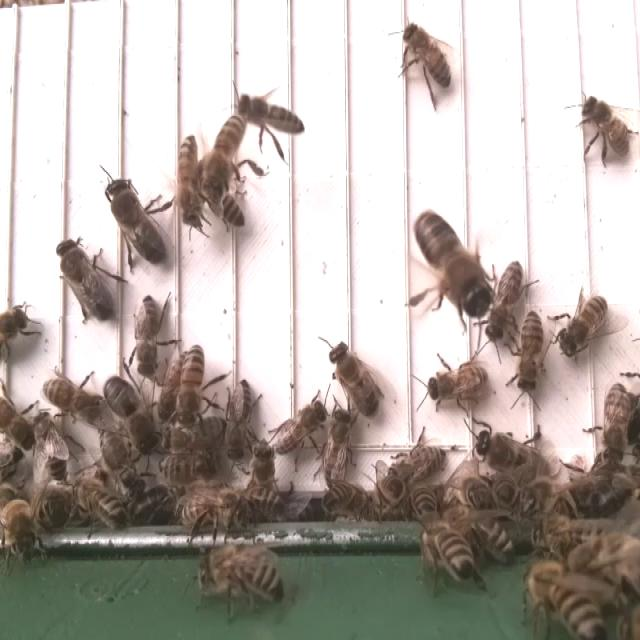Drone: (413, 207, 490, 318), (103, 175, 169, 267), (474, 426, 558, 490), (55, 234, 115, 322), (102, 376, 162, 458), (329, 341, 385, 425)
Worker: (199, 109, 248, 201), (401, 20, 456, 92), (198, 554, 284, 599), (485, 258, 527, 343), (580, 94, 631, 163), (237, 92, 307, 138), (271, 400, 328, 454), (175, 132, 205, 234), (596, 379, 630, 469), (385, 443, 451, 489), (558, 296, 609, 354), (174, 342, 208, 429), (425, 361, 493, 404), (41, 376, 103, 423), (514, 313, 548, 395), (133, 291, 163, 383), (321, 406, 351, 491), (230, 375, 255, 466), (178, 494, 239, 528)
